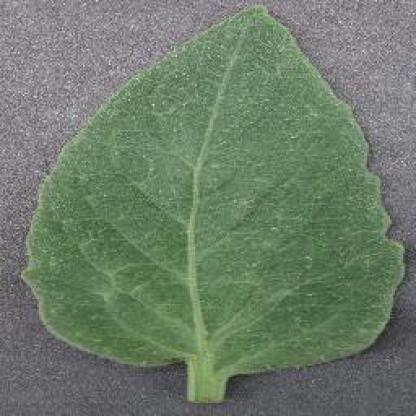good leaf: (85, 36, 378, 336)
